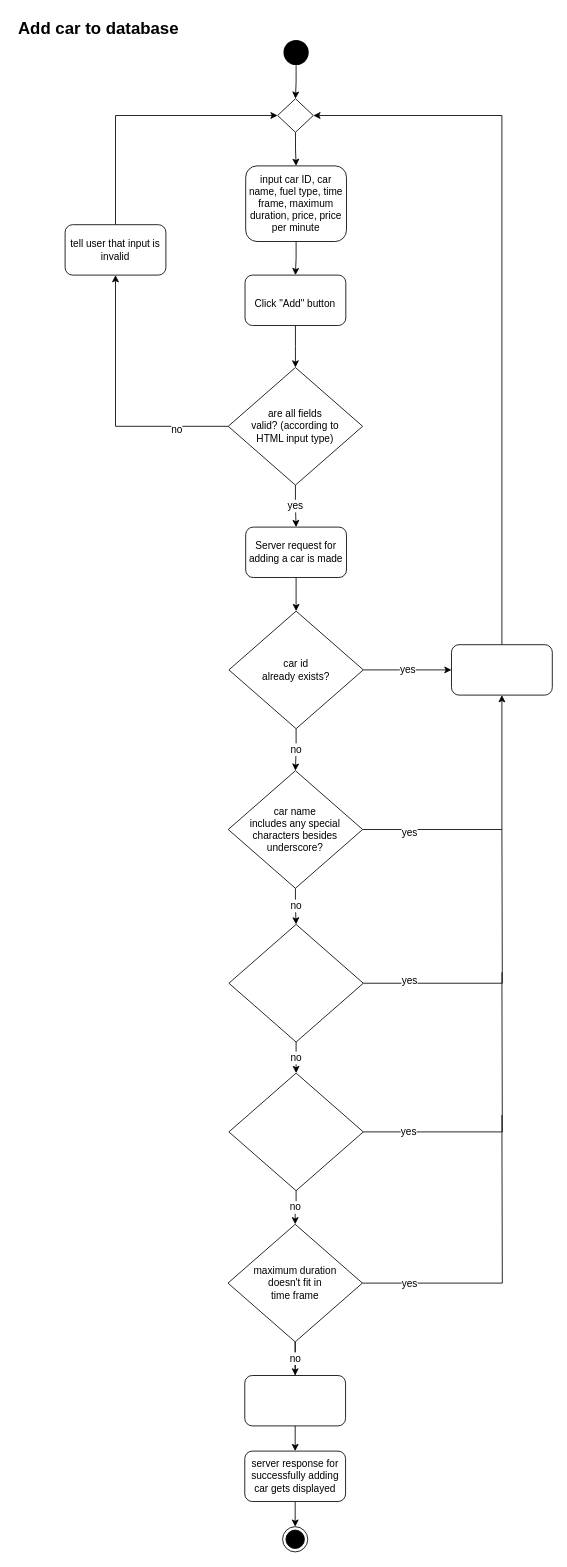
The diagram is 567 pixels wide and 1567 high, and some of its shapes have lost their labels. The centre of each missing label's shape, as x and y in pixels:
car gets added to database: (x=295, y=1400)
car id includes spaces and/or special characters besides - and _ ?: (x=295, y=983)
early time is after late time?: (x=295, y=1131)
server response for invalid input gets displayed: (x=501, y=669)
